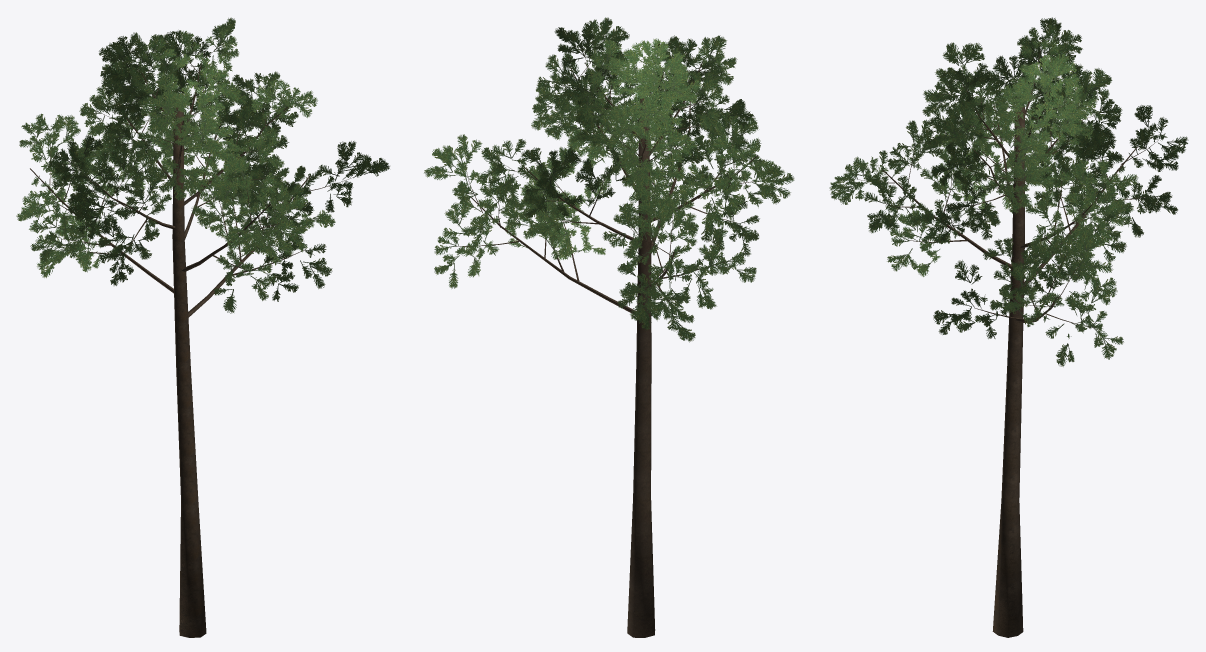
The model's file is pine_open_v02_LOD1.fbx.
The picture shows the model from 3 angles, left to right: view 1: azimuth 30°, elevation 25°; view 2: azimuth 150°, elevation 25°; view 3: azimuth 270°, elevation 25°; orthographic projection. The views are drawn at different scales.
Visible parts, largest first — view 1: pine_open_v02_LOD1; view 2: pine_open_v02_LOD1; view 3: pine_open_v02_LOD1.
Part boxes in pixels (x1,y1,x2,y2): pine_open_v02_LOD1: (16,17,389,637); pine_open_v02_LOD1: (424,17,794,637); pine_open_v02_LOD1: (829,17,1188,637).
Bounding box in the file's own units: 1356 × 1272 × 2281.
2 materials, 2 textured.
